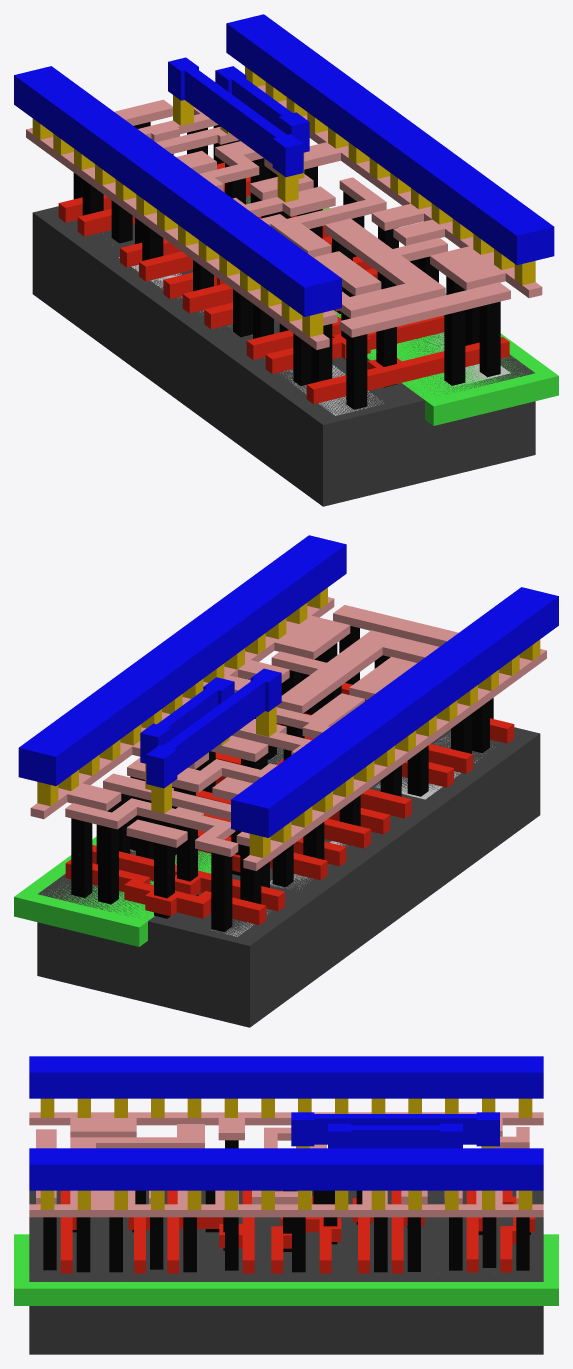
Rendered from sky130_fd_sc_hd__dlrtn_1.obj.
3 views of the same model, one above another, from view 1: azimuth 30°, elevation 25°; view 2: azimuth 150°, elevation 25°; view 3: azimuth 270°, elevation 25° (orthographic). The views are drawn at different scales.
Parts seen in each view (by area): view 1: metal1, subs, li, licon, poly, mcon, nwell, diff; view 2: metal1, subs, li, licon, poly, mcon, nwell, diff; view 3: metal1, subs, li, nwell, licon, poly, mcon.
Boxes of the visible parts, <box> form: metal1: <box>14,14,554,316</box>; subs: <box>32,196,535,506</box>; li: <box>26,85,542,349</box>; licon: <box>73,122,500,409</box>; poly: <box>58,162,509,404</box>; mcon: <box>32,66,535,336</box>; nwell: <box>246,196,558,425</box>; diff: <box>103,233,383,415</box>; metal1: <box>18,535,558,837</box>; subs: <box>37,727,540,1027</box>; li: <box>30,597,546,870</box>; licon: <box>71,626,493,931</box>; poly: <box>65,683,514,925</box>; mcon: <box>37,587,540,857</box>; nwell: <box>14,749,280,946</box>; diff: <box>211,733,492,936</box>; metal1: <box>29,1056,543,1190</box>; subs: <box>29,1190,543,1354</box>; li: <box>29,1112,543,1217</box>; nwell: <box>14,1234,558,1305</box>; licon: <box>43,1140,530,1272</box>; poly: <box>60,1190,535,1273</box>; mcon: <box>40,1098,532,1209</box>.
Bounding box in the file's own units: 3.2 × 2.74 × 6.82.
